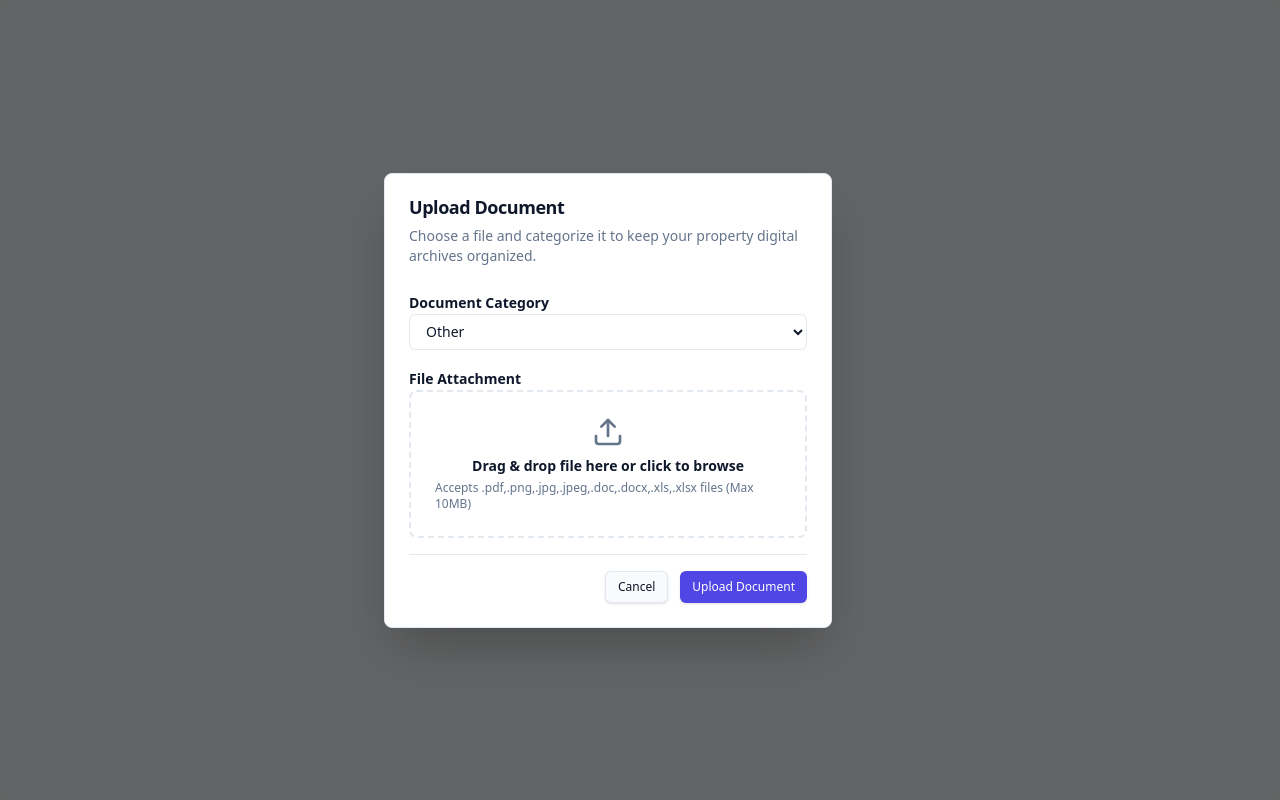
Test: Document Feature Tests › DocumentUploadDialog › validates missing file attachment on submit
Step 1. Click the button "Upload Document" → (744, 586), box [680, 570, 807, 602]
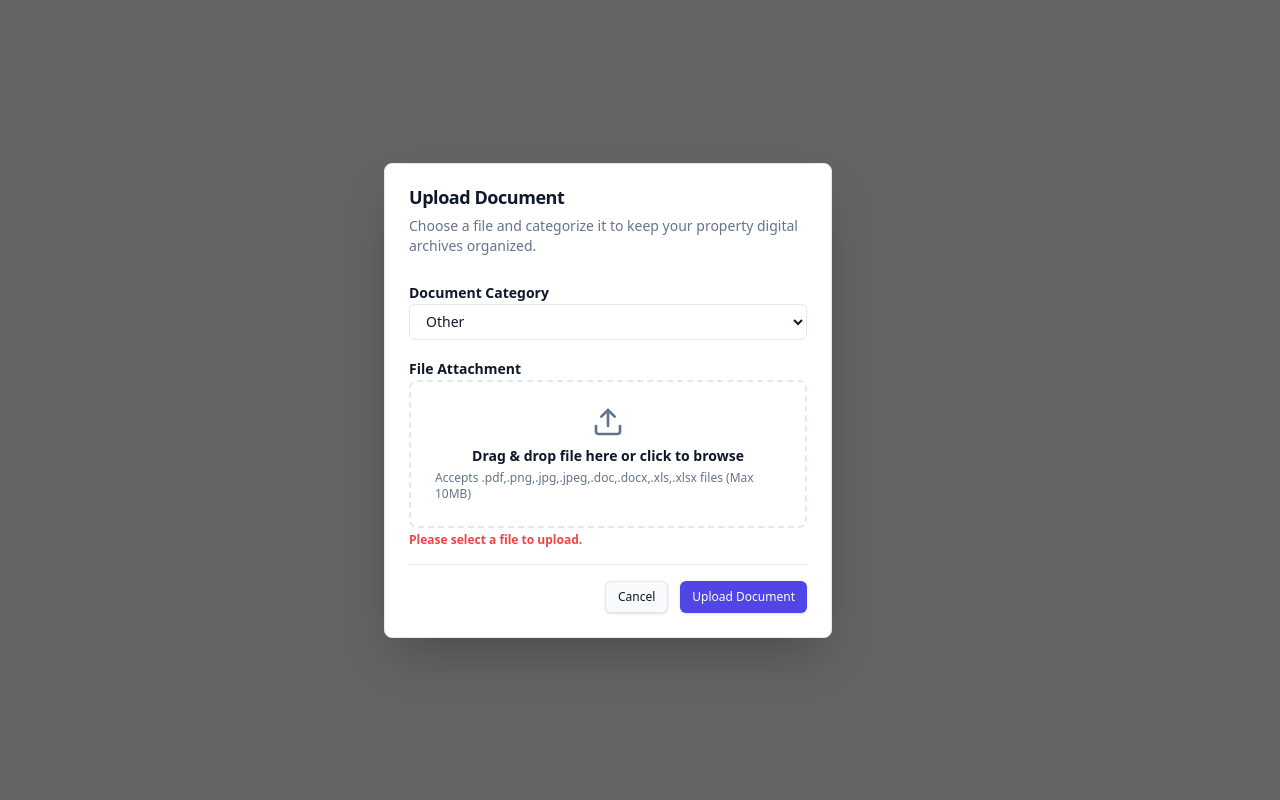
Check: the text "Please select a file to upload." is shown, box [409, 530, 582, 548]
